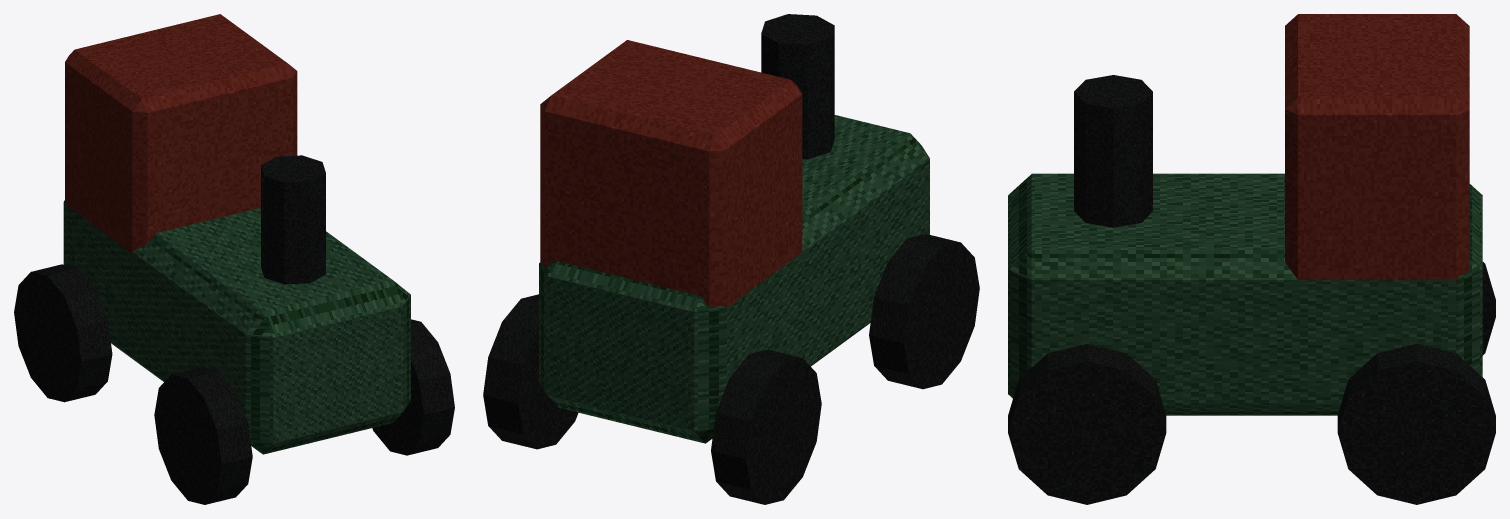
File: level_loose_toy.glb
3 views of the same model, side by side, from view 1: azimuth 30°, elevation 25°; view 2: azimuth 150°, elevation 25°; view 3: azimuth 270°, elevation 25° (orthographic). The views are drawn at different scales.
Visible parts, largest first — view 1: level_loose_toy; view 2: level_loose_toy; view 3: level_loose_toy.
Part boxes in pixels (left/top/right/bottom): level_loose_toy: left=14, top=14, right=454, bottom=504; level_loose_toy: left=483, top=14, right=979, bottom=504; level_loose_toy: left=1008, top=14, right=1495, bottom=504.
Size of the model in its own units: 0.12 by 0.16 by 0.185.
3 materials, 3 textured.
